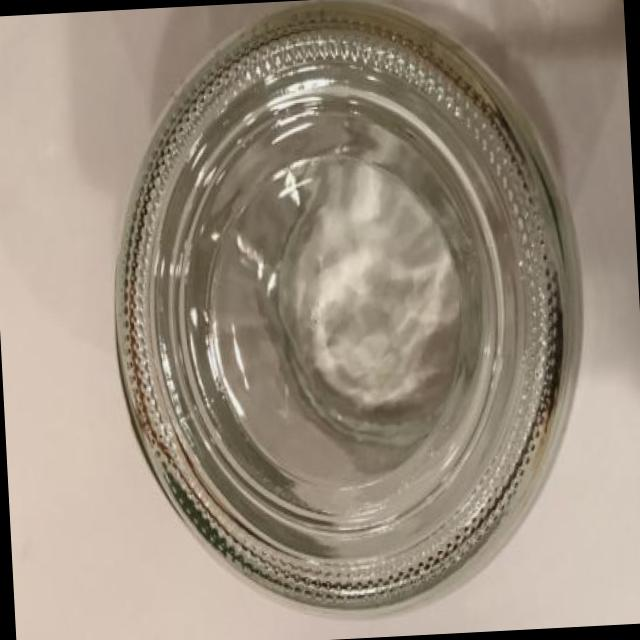thuy_tinh: (115, 4, 584, 616)
